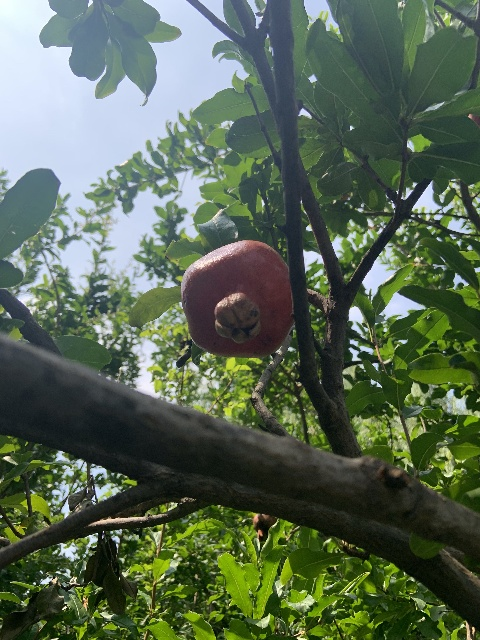ripe: (180, 240, 293, 358)
